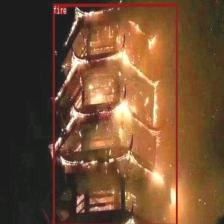fire: (52, 3, 177, 224)
